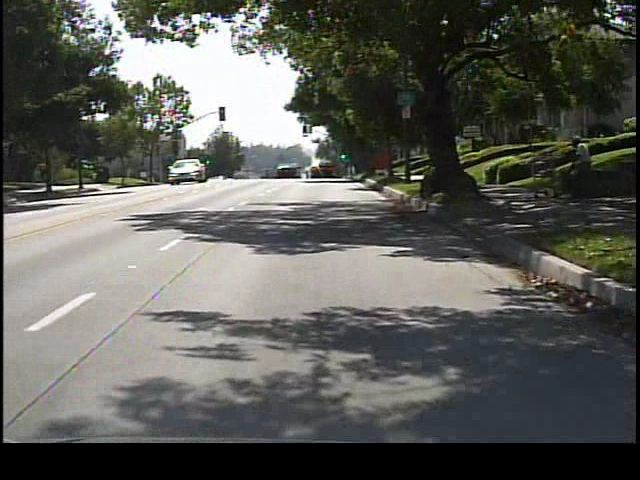person: (564, 133, 597, 208)
